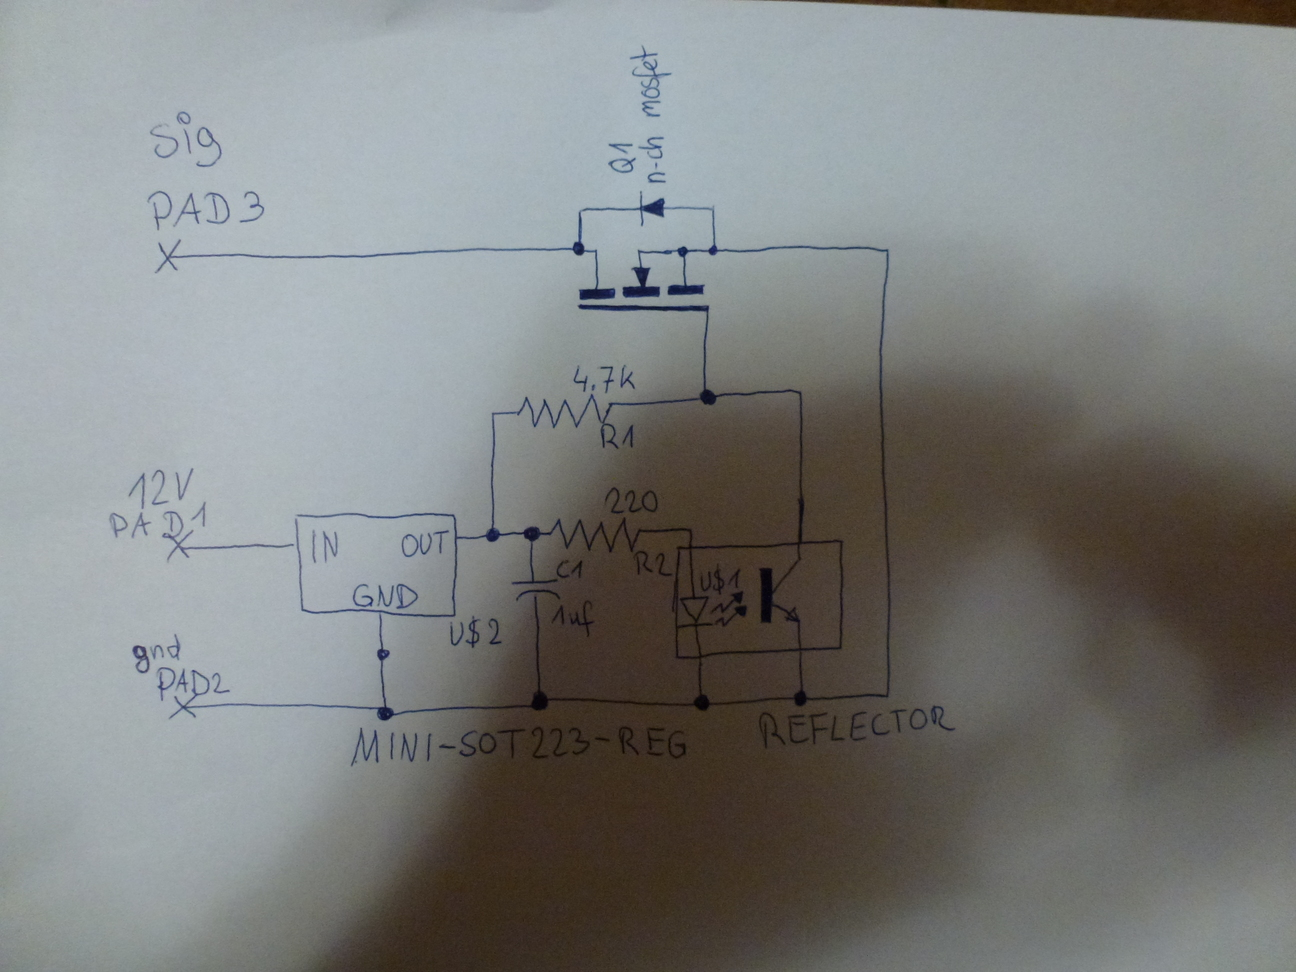capacitor.unpolarized: (508, 573, 561, 600)
diode: (633, 189, 669, 226)
integrated_circuit: (669, 536, 848, 663)
junction: (526, 685, 554, 715), (696, 385, 719, 408), (519, 522, 543, 544), (691, 691, 712, 713), (481, 524, 503, 544), (373, 703, 396, 723), (791, 686, 808, 707), (570, 240, 587, 259), (879, 241, 895, 259), (705, 244, 721, 257), (793, 385, 807, 398), (880, 686, 892, 698), (486, 408, 499, 420), (576, 204, 587, 216), (707, 202, 718, 213), (684, 524, 695, 534)
optocoupler: (676, 554, 805, 632)
resistor: (512, 392, 618, 436), (546, 514, 641, 556)
terminal: (160, 528, 197, 564), (154, 236, 181, 275), (166, 694, 200, 721)
text: (345, 722, 688, 770), (755, 701, 958, 755), (628, 40, 672, 187), (147, 186, 266, 229), (107, 498, 210, 542), (146, 115, 223, 172), (124, 466, 195, 512), (155, 666, 228, 702), (569, 362, 639, 395), (130, 632, 181, 675), (350, 580, 420, 611), (448, 614, 504, 650), (601, 486, 660, 516), (550, 599, 597, 636), (697, 560, 742, 596), (397, 527, 447, 558), (604, 135, 638, 176), (596, 421, 637, 452), (307, 527, 341, 564), (631, 549, 672, 576), (553, 557, 585, 584)
transistor: (574, 236, 715, 314)
voltage.dc_regulator: (290, 502, 462, 619)
